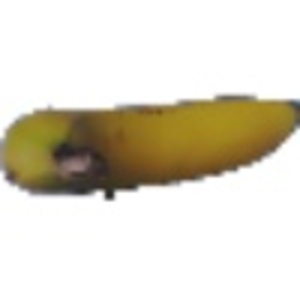banana: (2, 72, 295, 229)
